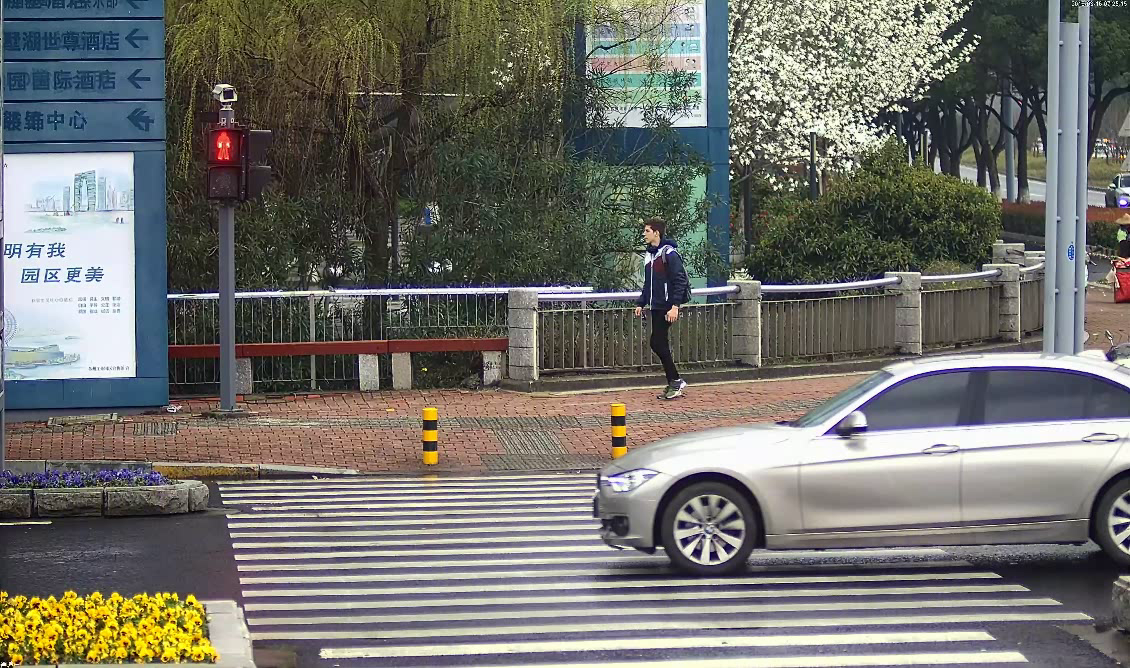person: (626, 213, 704, 403)
